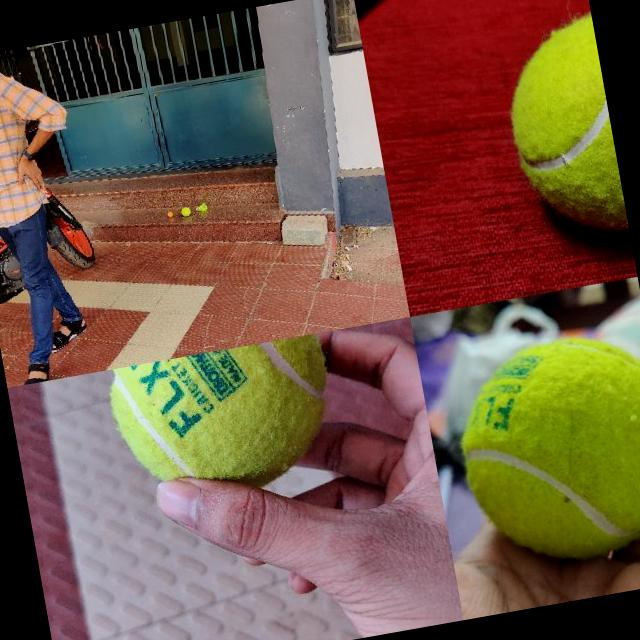Tennis Ball: (445, 324, 640, 577), (103, 332, 340, 487), (492, 9, 628, 248), (180, 206, 190, 216)
